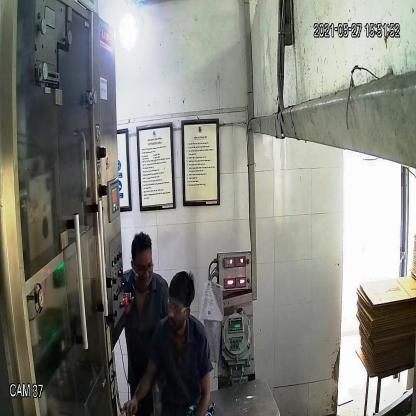goggles: (161, 293, 193, 319)
